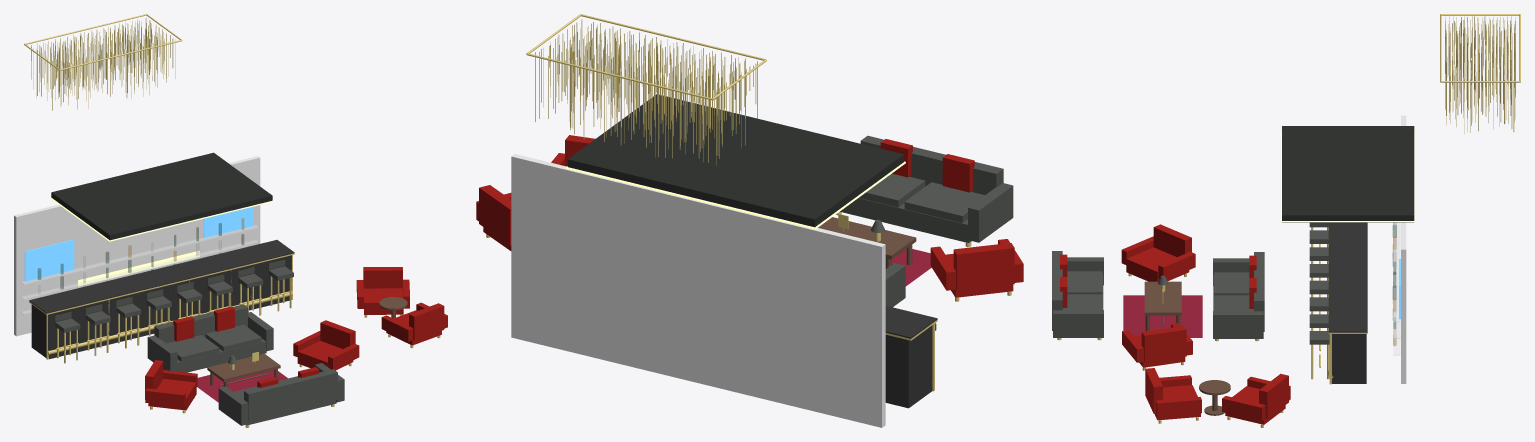
File: cs-bar.glb
The picture shows the model from 3 angles, left to right: view 1: azimuth 30°, elevation 25°; view 2: azimuth 150°, elevation 25°; view 3: azimuth 270°, elevation 25°; orthographic projection. The views are drawn at different scales.
Parts seen in each view (by area): view 1: Bar, Ceiling_Panel; view 2: Bar, Ceiling_Panel; view 3: Bar, Ceiling_Panel.
Boxes of the visible parts, x1,y1,x2,y2 form: Bar: (14, 14, 447, 427); Ceiling_Panel: (50, 197, 273, 241); Bar: (476, 14, 1023, 427); Ceiling_Panel: (565, 161, 905, 229); Bar: (1052, 14, 1520, 427); Ceiling_Panel: (1281, 131, 1415, 222).
Bounding box in the file's own units: 8.19 × 5.61 × 8.87.
5 materials, 5 textured.
